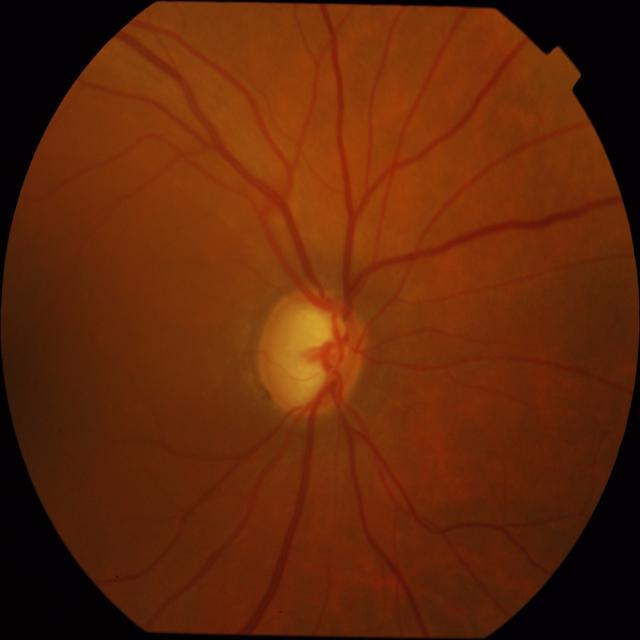OC: (274, 309, 346, 403)
OD: (256, 286, 366, 418)
